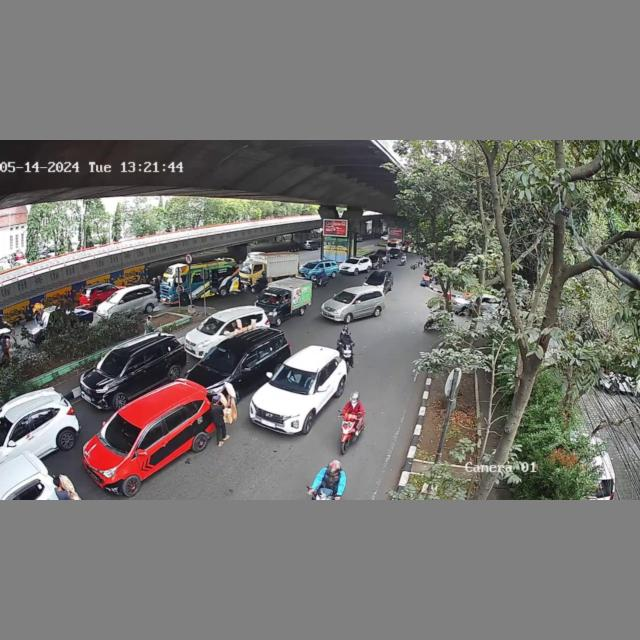windshield: (97, 415, 146, 457), (274, 364, 317, 392), (202, 348, 246, 370), (98, 351, 130, 376), (257, 290, 284, 307), (197, 317, 224, 333)
